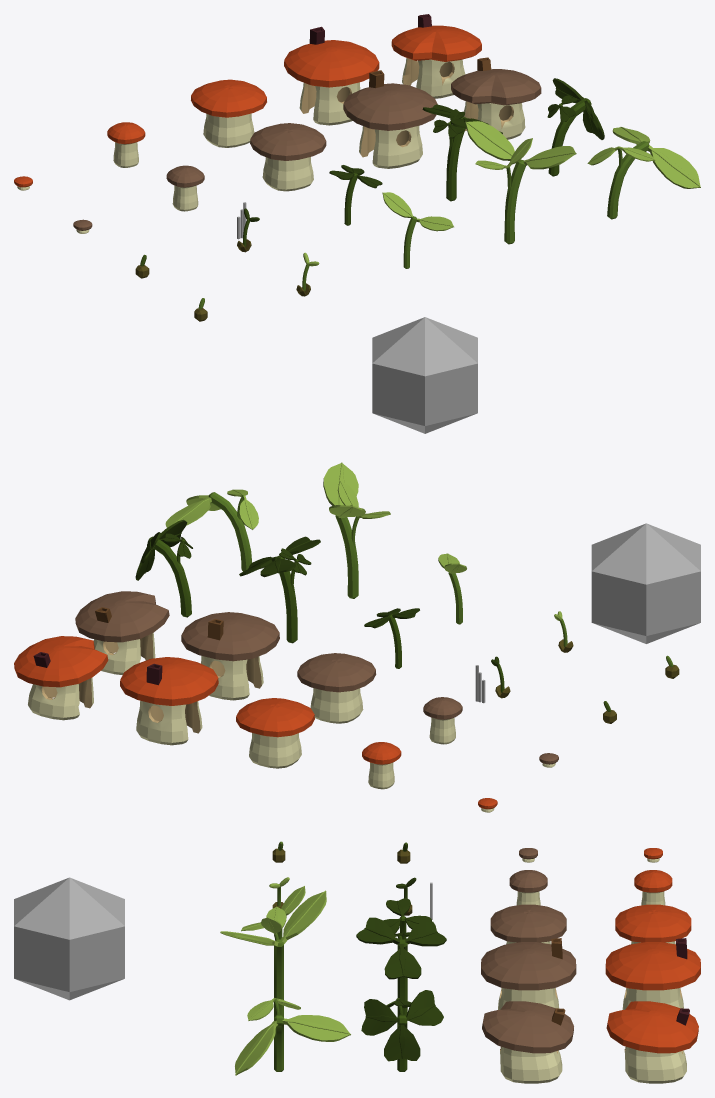
The model's file is Placeables.fbx.
3 views of the same model, one above another, from view 1: azimuth 30°, elevation 25°; view 2: azimuth 150°, elevation 25°; view 3: azimuth 270°, elevation 25° (orthographic). The views are drawn at different scales.
Visible parts, largest first — view 1: NodeCursor, BrownMushroomFullGrown, RedMushroomFullGrown, RedMushroomDecaying, BrownMushroomDecaying, BrownMushroomAdolescent, RedMushroomAdolescent, SproutFullGrown, SproutDecaying, CloverDecaying, CloverFullGrown, SproutAdolescent (+3 smaller); view 2: NodeCursor, RedMushroomFullGrown, RedMushroomDecaying, BrownMushroomFullGrown, BrownMushroomDecaying, RedMushroomAdolescent, BrownMushroomAdolescent, SproutFullGrown, SproutDecaying, CloverFullGrown, CloverDecaying, RedMushroomBudding (+3 smaller); view 3: NodeCursor, BrownMushroomDecaying, RedMushroomDecaying, RedMushroomFullGrown, BrownMushroomFullGrown, SproutDecaying, CloverDecaying, CloverFullGrown, SproutFullGrown, BrownMushroomAdolescent, RedMushroomAdolescent, RedMushroomBudding (+3 smaller).
Part boxes in pixels (x1,y1,x2,y2): NodeCursor: (372, 317, 477, 433); BrownMushroomFullGrown: (343, 70, 437, 168); RedMushroomFullGrown: (284, 26, 379, 125); RedMushroomDecaying: (391, 14, 481, 98); BrownMushroomDecaying: (451, 57, 541, 139); BrownMushroomAdolescent: (250, 123, 326, 191); RedMushroomAdolescent: (191, 79, 266, 147); SproutFullGrown: (465, 121, 576, 244); SproutDecaying: (587, 127, 700, 219); CloverDecaying: (547, 78, 604, 176); CloverFullGrown: (422, 104, 502, 201); SproutAdolescent: (382, 192, 453, 268); NodeCursor: (591, 523, 700, 643); RedMushroomFullGrown: (120, 657, 218, 745); RedMushroomDecaying: (14, 636, 108, 720); BrownMushroomFullGrown: (181, 612, 279, 700); BrownMushroomDecaying: (75, 591, 169, 674); RedMushroomAdolescent: (236, 698, 314, 768); BrownMushroomAdolescent: (297, 653, 376, 723); SproutFullGrown: (323, 462, 390, 598); SproutDecaying: (165, 489, 258, 571); CloverFullGrown: (239, 536, 320, 643); CloverDecaying: (135, 519, 192, 617); RedMushroomBudding: (362, 742, 401, 789); NodeCursor: (14, 877, 124, 1000); BrownMushroomDecaying: (482, 1001, 573, 1083); RedMushroomDecaying: (606, 1001, 698, 1083); RedMushroomFullGrown: (605, 938, 700, 1009); BrownMushroomFullGrown: (481, 938, 576, 1009); SproutDecaying: (235, 998, 350, 1075); CloverDecaying: (361, 990, 443, 1071); CloverFullGrown: (356, 917, 446, 1015); SproutFullGrown: (220, 890, 326, 1016); BrownMushroomAdolescent: (490, 904, 566, 944); RedMushroomAdolescent: (615, 904, 691, 944); RedMushroomBudding: (634, 870, 672, 905).
Bounding box in the file's own units: 238 × 85.43 × 275.
Materials: 2 (1 with a texture image).
